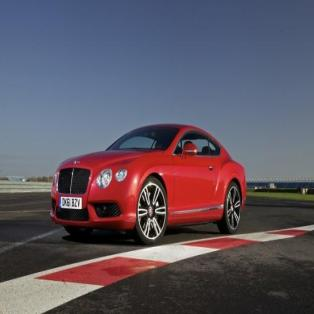Auto: (48, 120, 248, 250)
